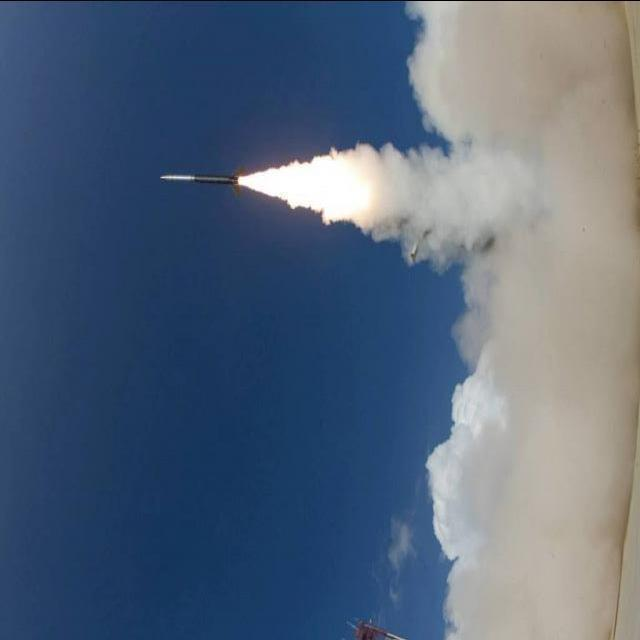missile: (158, 170, 242, 184)
